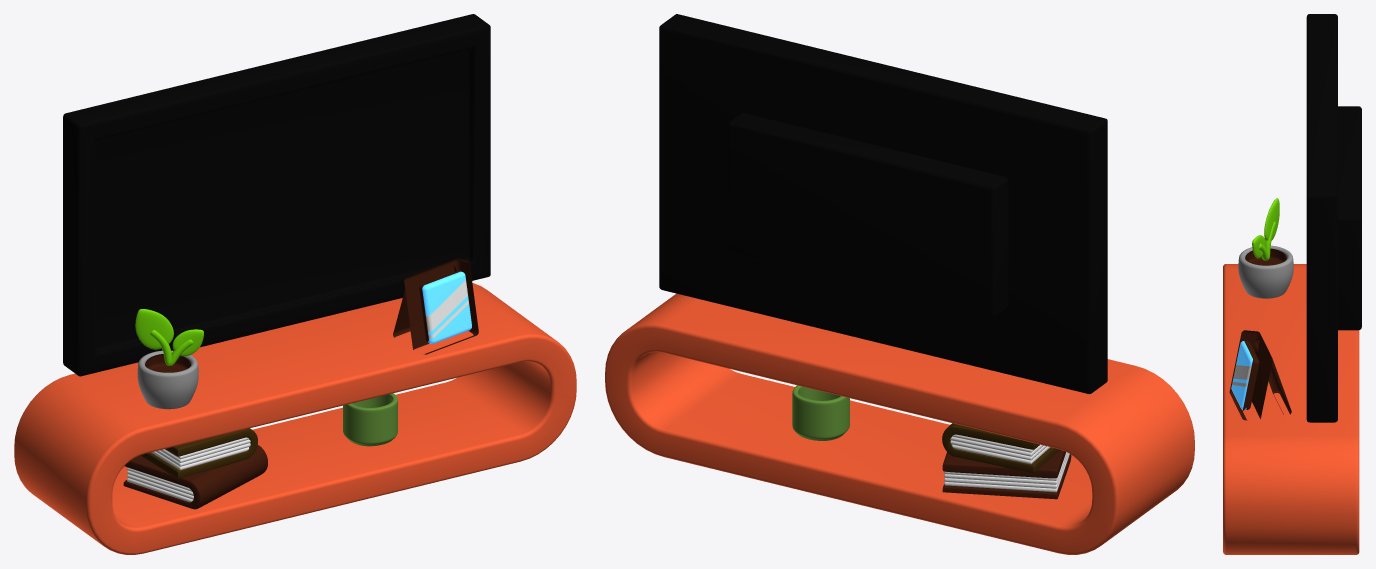
The model's file is 20. Tv Table.fbx.
The picture shows the model from 3 angles, left to right: view 1: azimuth 30°, elevation 25°; view 2: azimuth 150°, elevation 25°; view 3: azimuth 270°, elevation 25°; orthographic projection. The views are drawn at different scales.
Parts seen in each view (by area): view 1: Cube.063, Cube.060, Cube.062, Switch.003, Cylinder.017, Cube.061, Switch.005, Plane.018, Plane.017, Plane.015; view 2: Cube.063, Cube.060, Cube.061, Switch.003, Switch.005, Plane.015, Plane.018; view 3: Cube.060, Cube.063, Cube.062, Cylinder.017, Plane.017, Cylinder.018, Plane.019.
Boxes of the visible parts, <box> form: Cube.063: <box>63,14,490,376</box>; Cube.060: <box>14,283,576,554</box>; Cube.062: <box>393,258,478,354</box>; Switch.003: <box>123,445,267,509</box>; Cylinder.017: <box>137,350,198,409</box>; Cube.061: <box>343,393,397,446</box>; Switch.005: <box>140,428,257,478</box>; Plane.018: <box>151,437,250,470</box>; Plane.017: <box>135,309,173,349</box>; Plane.015: <box>127,467,193,502</box>; Cube.063: <box>659,14,1107,394</box>; Cube.060: <box>605,293,1194,554</box>; Cube.061: <box>792,385,849,440</box>; Switch.003: <box>942,450,1071,499</box>; Switch.005: <box>942,423,1059,472</box>; Plane.015: <box>944,452,1069,492</box>; Plane.018: <box>950,434,1050,464</box>; Cube.060: <box>1223,264,1359,554</box>; Cube.063: <box>1306,14,1361,422</box>; Cube.062: <box>1229,330,1291,420</box>; Cylinder.017: <box>1238,245,1293,298</box>; Plane.017: <box>1264,198,1279,240</box>; Cylinder.018: <box>1259,221,1275,260</box>; Plane.019: <box>1252,235,1265,258</box>.
Bounding box in the file's own units: 270 × 211 × 73.33.
